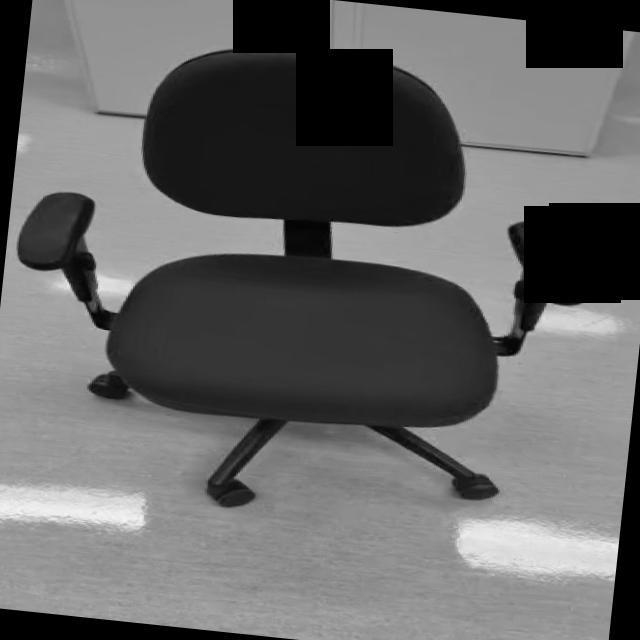chair: (0, 20, 611, 542)
